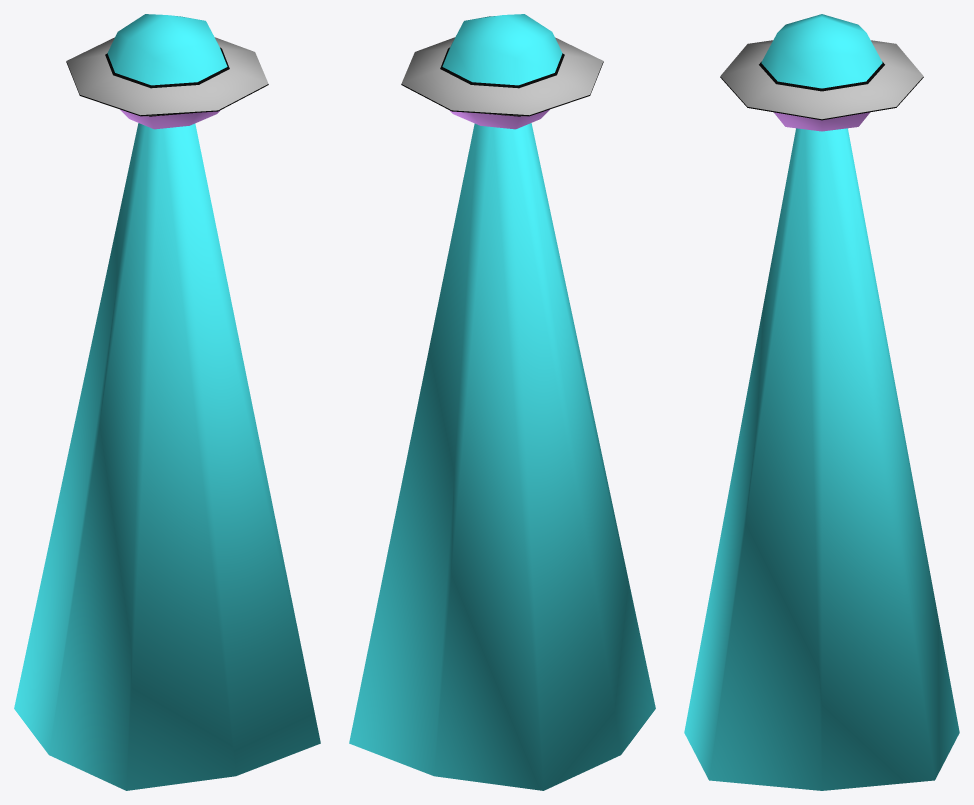
Rendered from UFO.fbx.
The picture shows the model from 3 angles, left to right: view 1: azimuth 30°, elevation 25°; view 2: azimuth 150°, elevation 25°; view 3: azimuth 270°, elevation 25°; orthographic projection.
Visible parts, largest first — view 1: Cube; view 2: Cube; view 3: Cube.
Part boxes in pixels (<box>): Cube: <box>14,14,320,790</box>; Cube: <box>349,14,655,790</box>; Cube: <box>684,14,959,790</box>.
Size of the model in its own units: 3.76 by 3.76 by 10.76.
